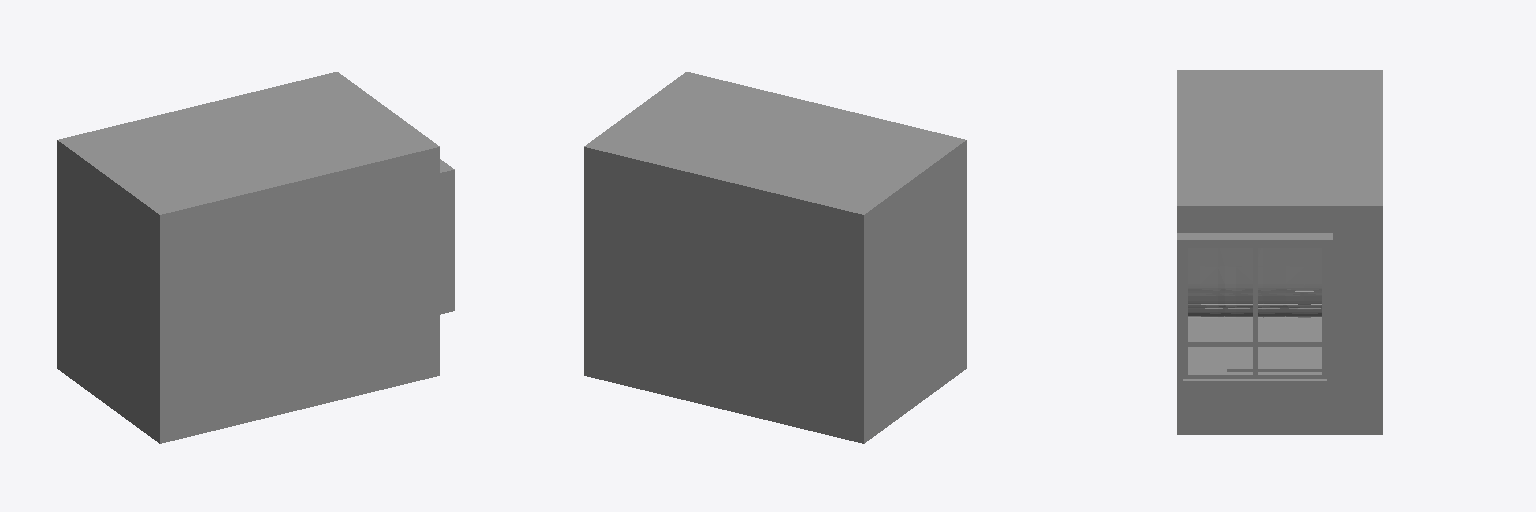
Rendered from kitchen1_layout.obj.
The picture shows the model from 3 angles: view 1: azimuth 30°, elevation 25°; view 2: azimuth 150°, elevation 25°; view 3: azimuth 270°, elevation 25°; orthographic projection.
Parts seen in each view (by area): view 1: wall.037, ceiling.018, ceiling.019, wall.040, window.122; view 2: wall.037, ceiling.019, ceiling.018, wall.040, wall.038; view 3: ceiling.019, wall.037, ceiling.018, curtain.002, wall.039, window.122, floor.001, wall.040.
Part boxes in pixels (x1,y1,x2,y2): wall.037: (57,140,454,443); ceiling.018: (57,73,439,217); ceiling.019: (58,72,437,214); wall.040: (160,72,439,225); window.122: (439,159,454,314); wall.037: (584,140,966,443); ceiling.019: (585,72,965,214); ceiling.018: (587,72,966,216); wall.040: (584,142,863,379); wall.038: (584,311,784,360); ceiling.019: (1177,70,1382,205); wall.037: (1177,206,1382,434); ceiling.018: (1177,70,1382,209); curtain.002: (1188,248,1321,317); wall.039: (1177,381,1327,434); window.122: (1177,233,1332,380); floor.001: (1188,318,1321,372); wall.040: (1177,198,1382,434).
Size of the model in its own units: 4.04 by 3 by 2.44.